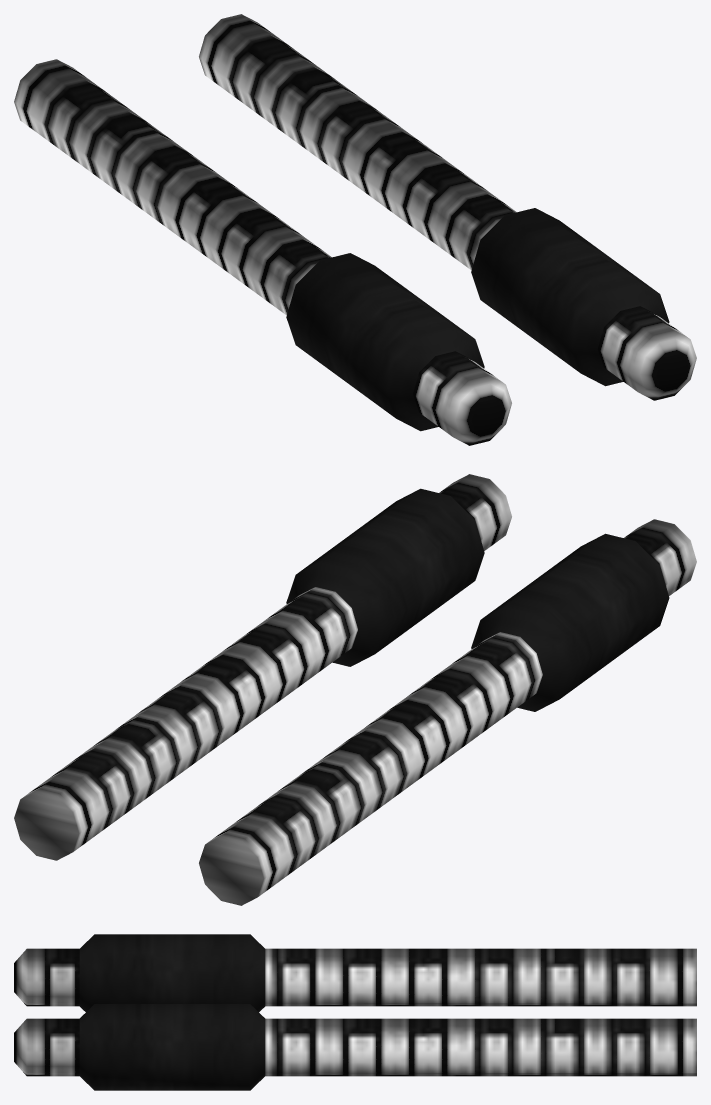
Rendered from AAA2Guns.fbx.
The picture shows the model from 3 angles, top to bottom: view 1: azimuth 30°, elevation 25°; view 2: azimuth 150°, elevation 25°; view 3: azimuth 270°, elevation 25°; orthographic projection. The views are drawn at different scales.
Parts seen in each view (by area): view 1: AAA2Guns; view 2: AAA2Guns; view 3: AAA2Guns.
Part boxes in pixels (x1,y1,x2,y2): AAA2Guns: (14, 14, 696, 445); AAA2Guns: (14, 474, 696, 905); AAA2Guns: (14, 934, 696, 1090).
Bounding box in the file's own units: 39.08 × 12.87 × 106.
